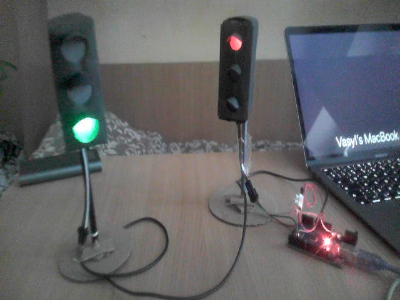trafficlight_green: (56, 24, 103, 145)
trafficlight_red: (218, 22, 252, 117)
